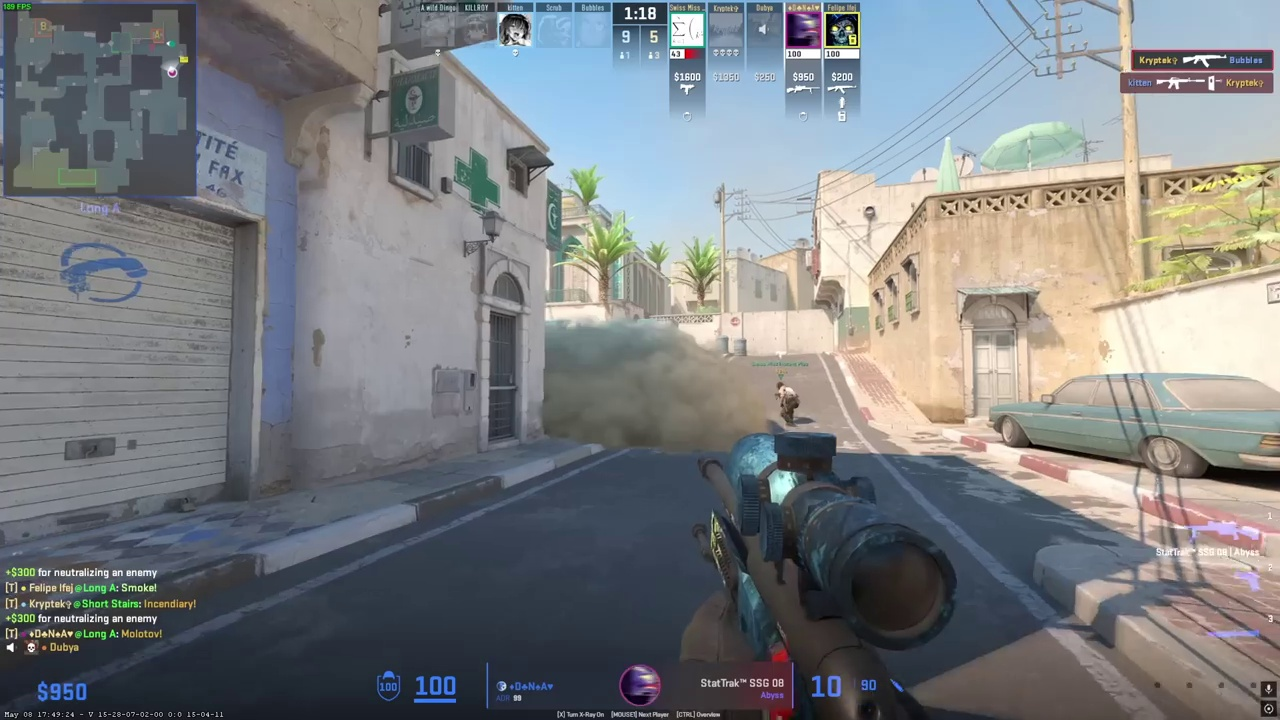Terrorist: (776, 382, 799, 425)
